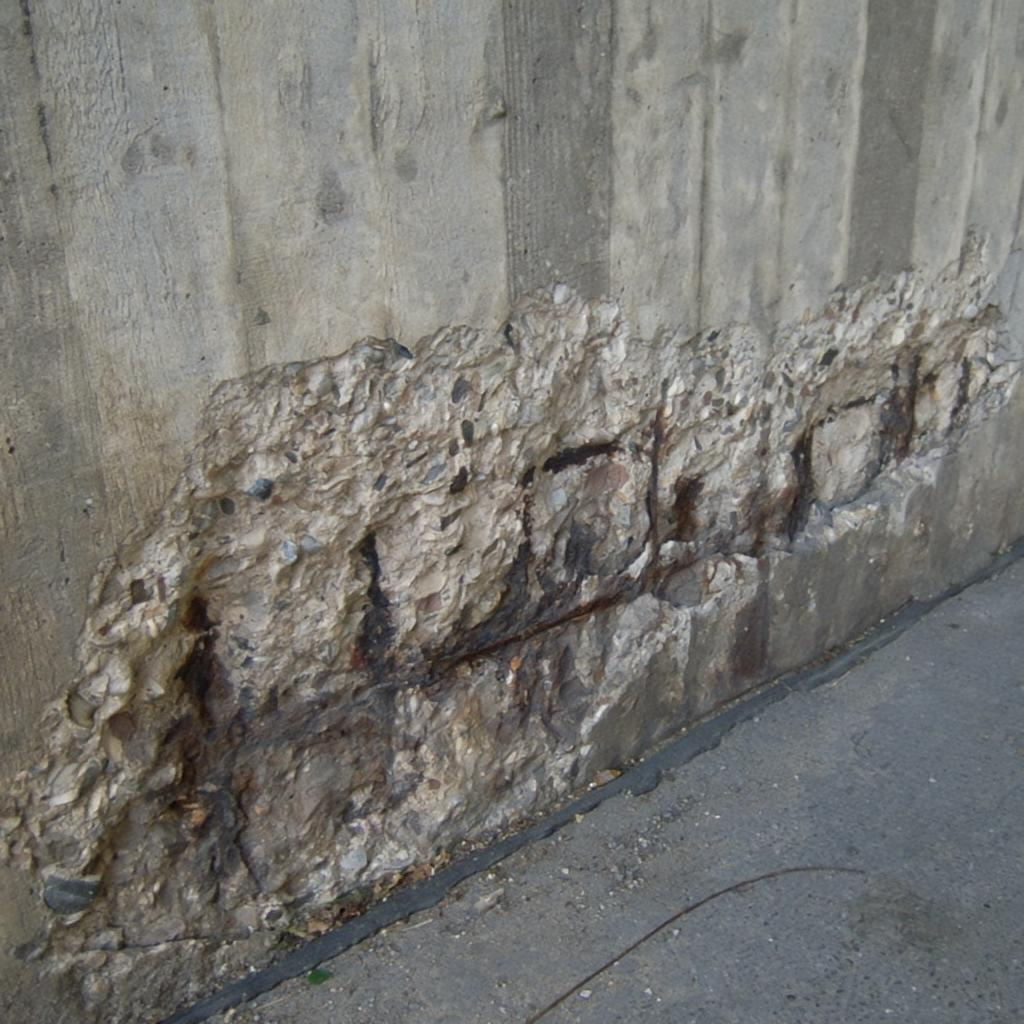spalling: (0, 248, 1018, 1023)
